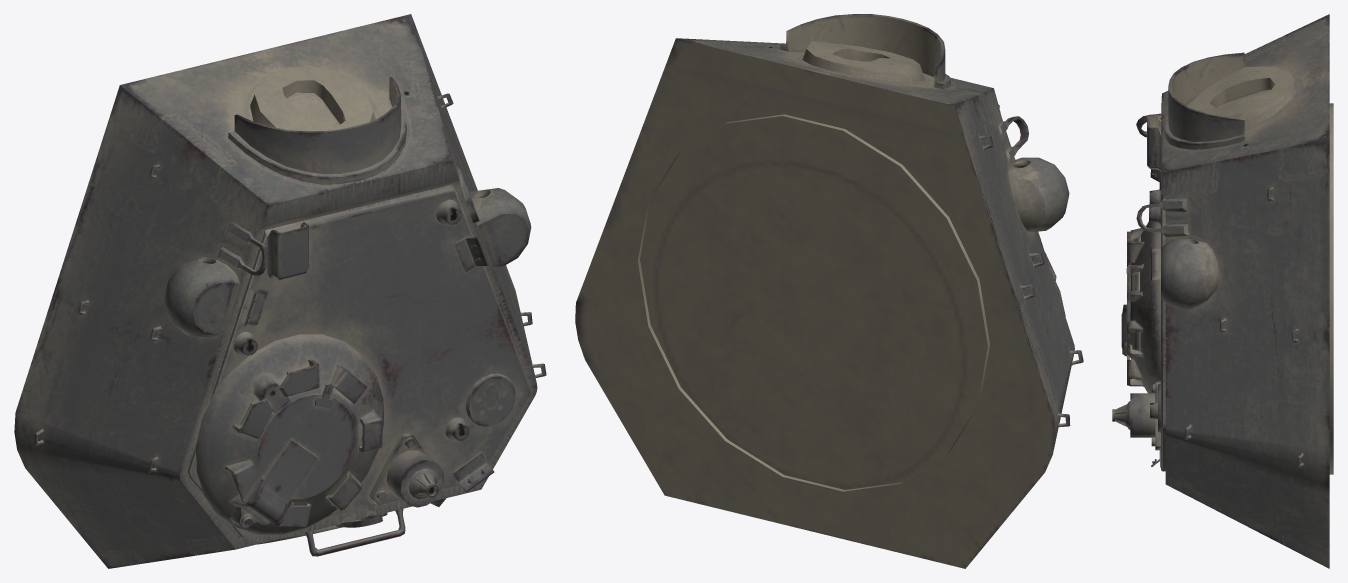
The model's file is Turret_02.glb.
The picture shows the model from 3 angles, left to right: view 1: azimuth 30°, elevation 25°; view 2: azimuth 150°, elevation 25°; view 3: azimuth 270°, elevation 25°; orthographic projection. The views are drawn at different scales.
Parts seen in each view (by area): view 1: set_0_group_0; view 2: set_0_group_0; view 3: set_0_group_0.
Part boxes in pixels (left/top/right/bottom): set_0_group_0: left=14, top=14, right=546, bottom=568; set_0_group_0: left=575, top=14, right=1083, bottom=568; set_0_group_0: left=1112, top=14, right=1333, bottom=568.
Bounding box in the file's own units: 2.59 × 2.37 × 1.12.
1 material, 1 textured.
